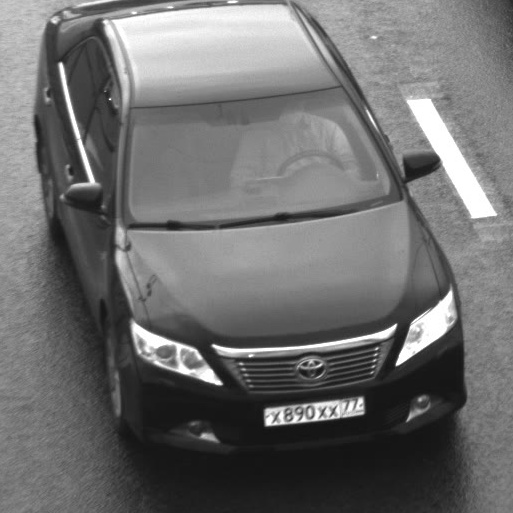plate: (253, 388, 373, 434)
